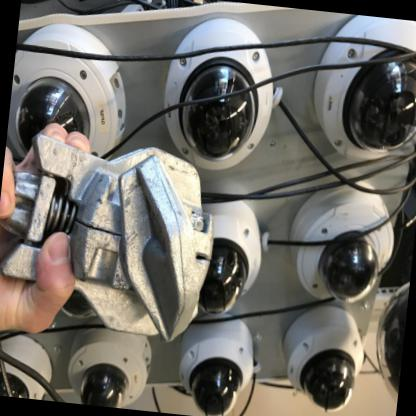Twistlock: (0, 110, 229, 351)
